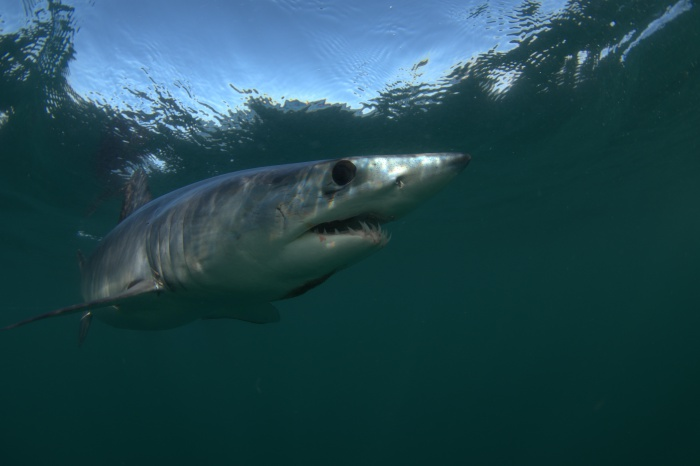Mako: (1, 112, 507, 355)
